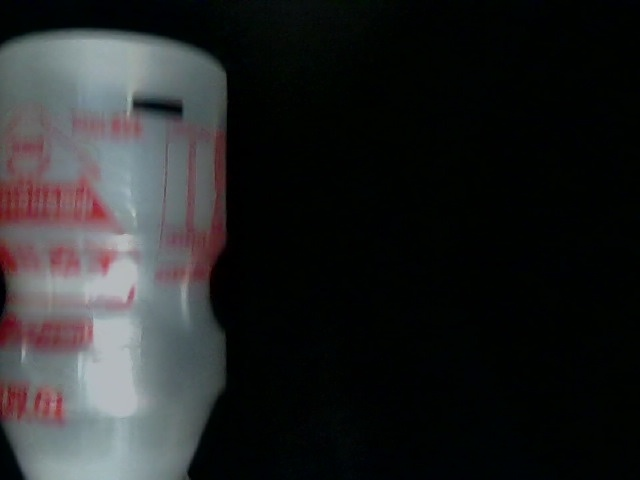CYLJ: (574, 403, 639, 480)
